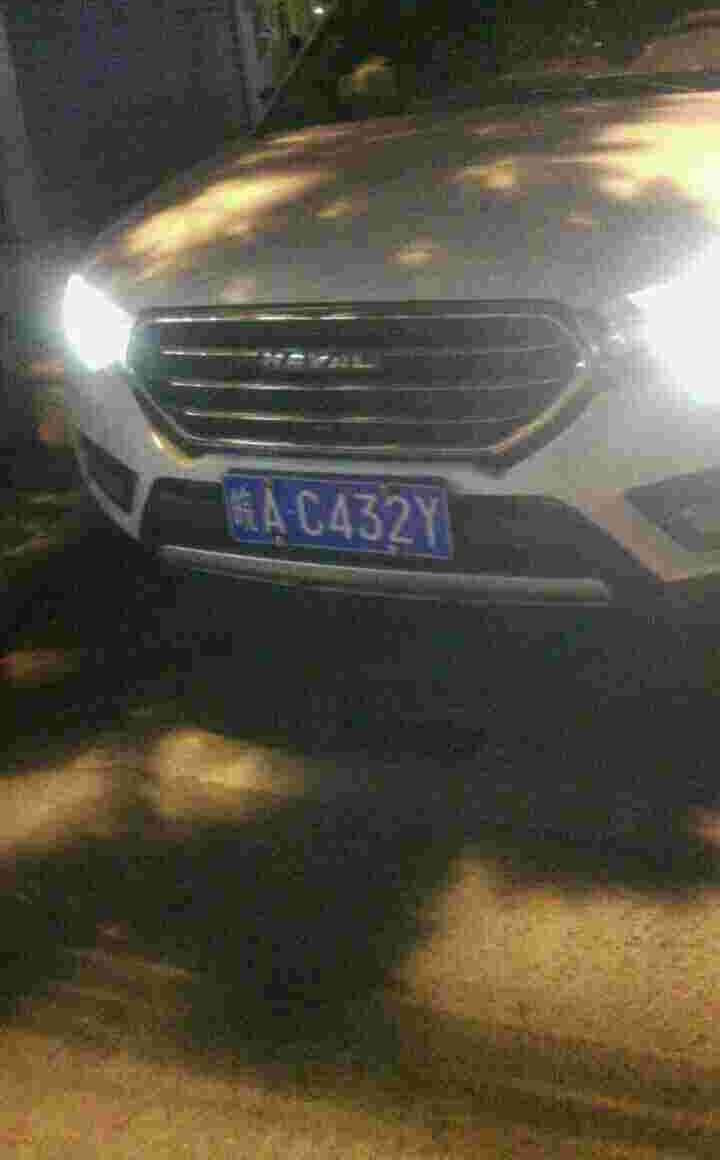license_plate: (219, 473, 461, 560)
